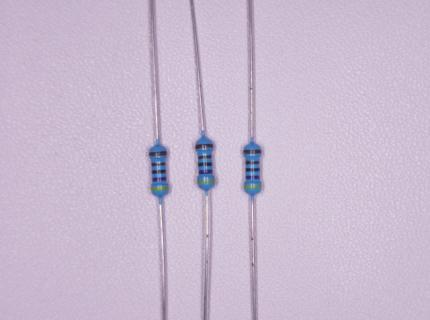Black band: (152, 169, 166, 174), (198, 162, 213, 166), (246, 168, 260, 172)
Brown band: (195, 144, 213, 149), (150, 151, 166, 156), (245, 161, 260, 165), (151, 162, 166, 166), (244, 150, 262, 153), (199, 155, 212, 159)
Violet band: (246, 175, 259, 180), (153, 177, 166, 182), (199, 170, 212, 174)
Yellow band: (152, 187, 168, 191), (198, 180, 214, 184), (245, 186, 261, 189)
